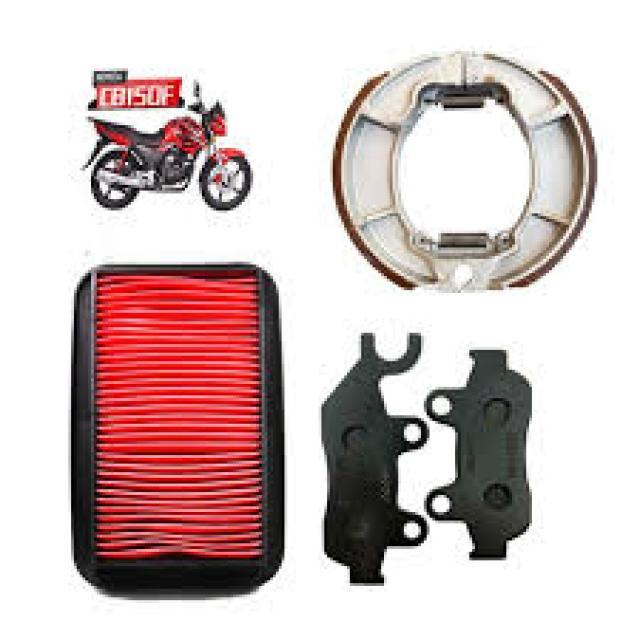air_filter: (74, 261, 283, 601)
brake_pad: (330, 47, 601, 300), (314, 328, 428, 590), (437, 342, 538, 564)
